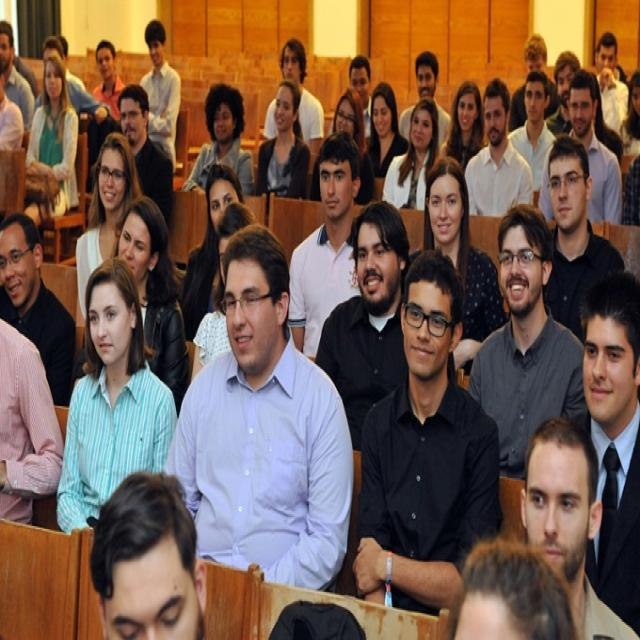body: (159, 222, 358, 595), (350, 246, 503, 619), (313, 198, 466, 452), (467, 202, 594, 481), (55, 256, 177, 535), (518, 413, 640, 640), (564, 277, 640, 638), (72, 196, 191, 420), (400, 153, 506, 379), (87, 467, 208, 640), (531, 132, 628, 342), (20, 594, 463, 638), (284, 129, 362, 367), (0, 210, 78, 412), (440, 535, 577, 640), (536, 66, 624, 225), (74, 129, 145, 324), (0, 316, 65, 528), (189, 198, 261, 387), (178, 162, 247, 345), (19, 51, 80, 231), (464, 74, 536, 218), (262, 38, 326, 188), (180, 81, 256, 201), (566, 69, 624, 226), (115, 82, 175, 230), (252, 78, 312, 217), (308, 87, 374, 207), (138, 16, 184, 177), (37, 13, 110, 111), (381, 96, 439, 213), (359, 79, 412, 204), (0, 0, 37, 172), (505, 28, 563, 135), (397, 48, 452, 148), (437, 76, 488, 174), (326, 54, 378, 139), (594, 28, 630, 138), (617, 60, 639, 228), (543, 48, 583, 138), (90, 39, 129, 126), (90, 37, 126, 120)
